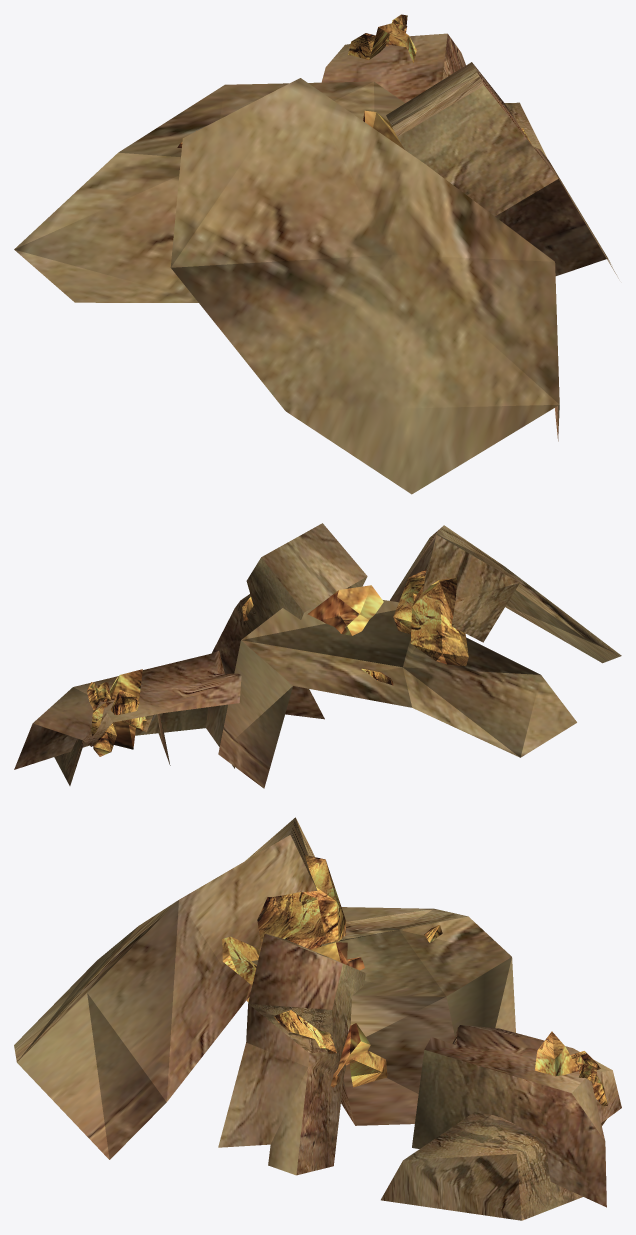
Rendered from S_Rock_Yellow048_3.FBX.
3 views of the same model, one above another, from view 1: azimuth 30°, elevation 25°; view 2: azimuth 150°, elevation 25°; view 3: azimuth 270°, elevation 25° (orthographic). The views are drawn at different scales.
Visible parts, largest first — view 1: S_Rock_Yellow048_3; view 2: S_Rock_Yellow048_3; view 3: S_Rock_Yellow048_3.
Part boxes in pixels (box(x1,y1,x2,y2)): S_Rock_Yellow048_3: box(14, 14, 618, 494); S_Rock_Yellow048_3: box(14, 523, 621, 788); S_Rock_Yellow048_3: box(14, 817, 621, 1220).
Size of the model in its own units: 525 by 574 by 276.
